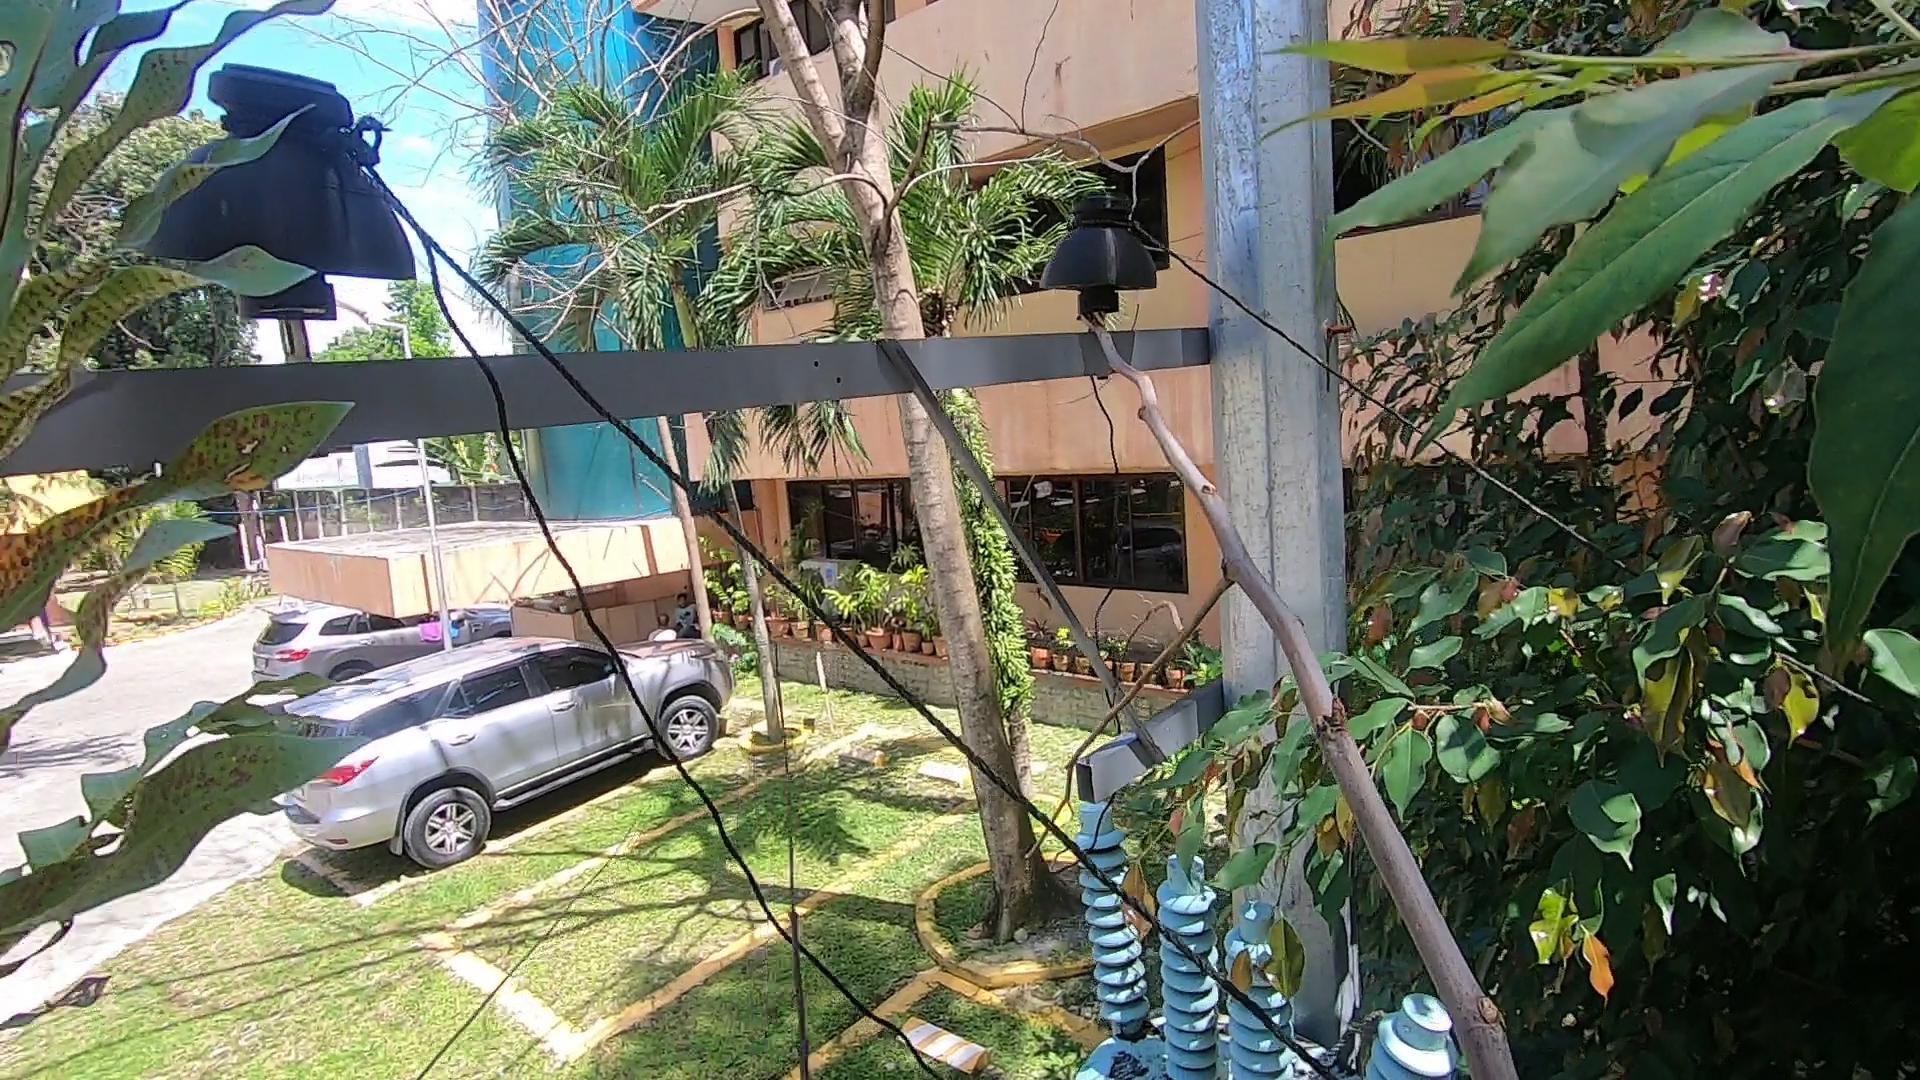branch with leaves: (1101, 694, 1404, 1043)
leaf: (3, 15, 418, 936), (1108, 1022, 1170, 1047)
tree branch: (1048, 261, 1534, 1080)
